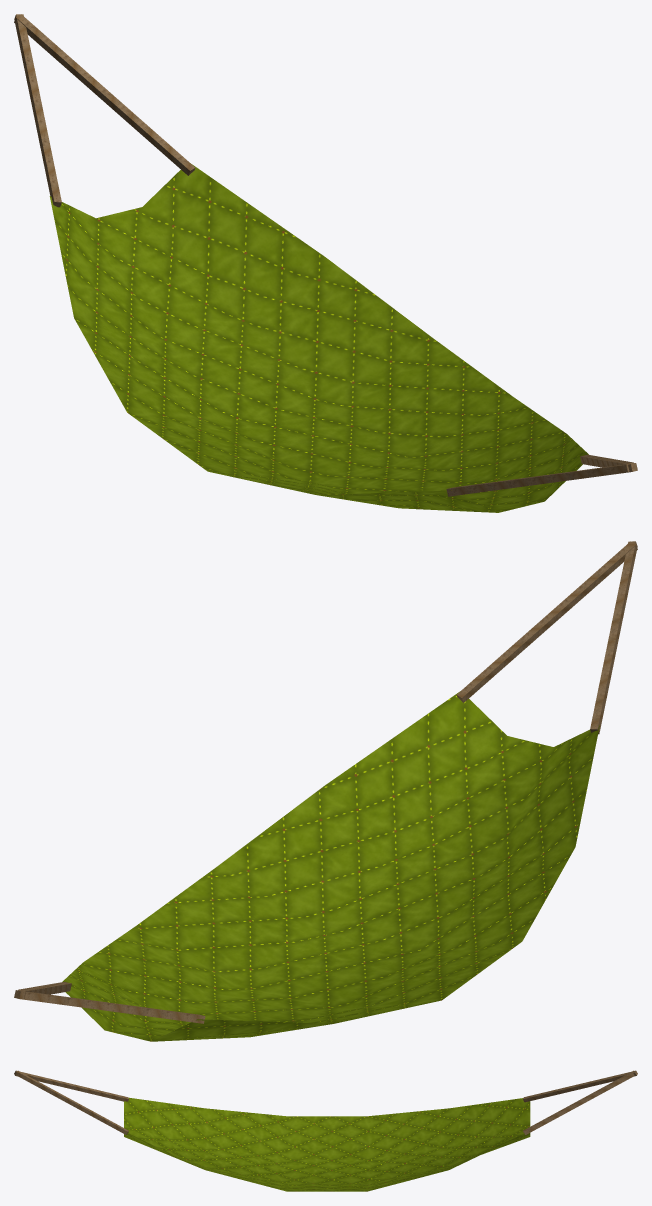
Rendered from hamac.fbx.
3 views of the same model, one above another, from view 1: azimuth 30°, elevation 25°; view 2: azimuth 150°, elevation 25°; view 3: azimuth 270°, elevation 25° (orthographic). The views are drawn at different scales.
Visible parts, largest first — view 1: hamac; view 2: hamac; view 3: hamac.
Part boxes in pixels (x1,y1,x2,y2): hamac: [14, 14, 637, 512]; hamac: [14, 541, 637, 1041]; hamac: [14, 1070, 637, 1191].
Bounding box in the file's own units: 102 × 63.85 × 358.
Materials: 1 (1 with a texture image).
